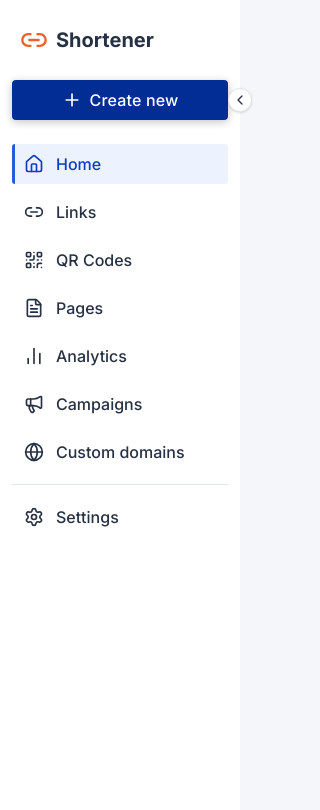
Sidebar › collapse button toggles aria-expanded and persists the state
Click the button named "collapse sidebar" at [240, 100], box [228,88,252,112]
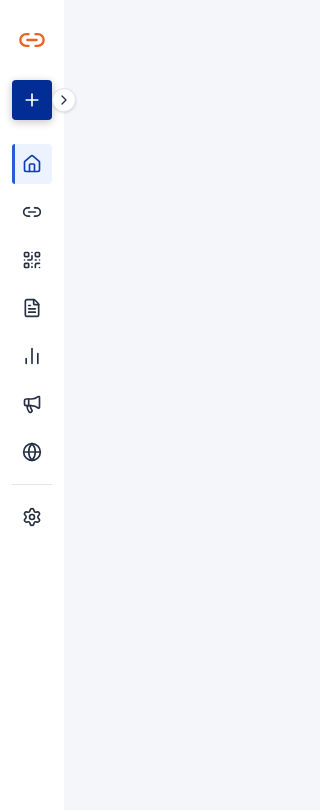
Result: the button named "expand sidebar" is collapsed at [52,88,76,112]
